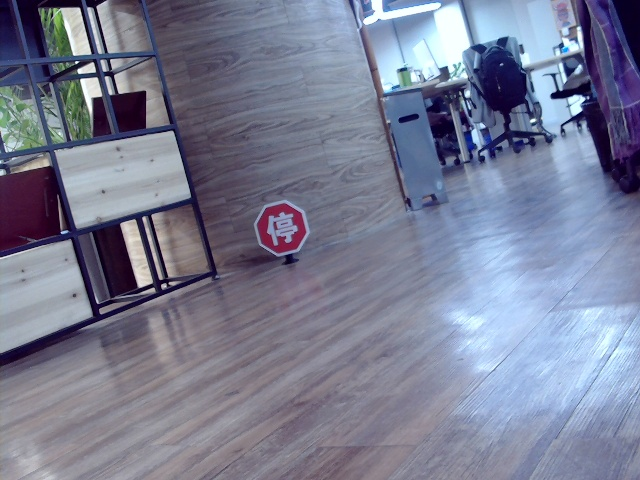stop: (264, 211, 298, 249)
